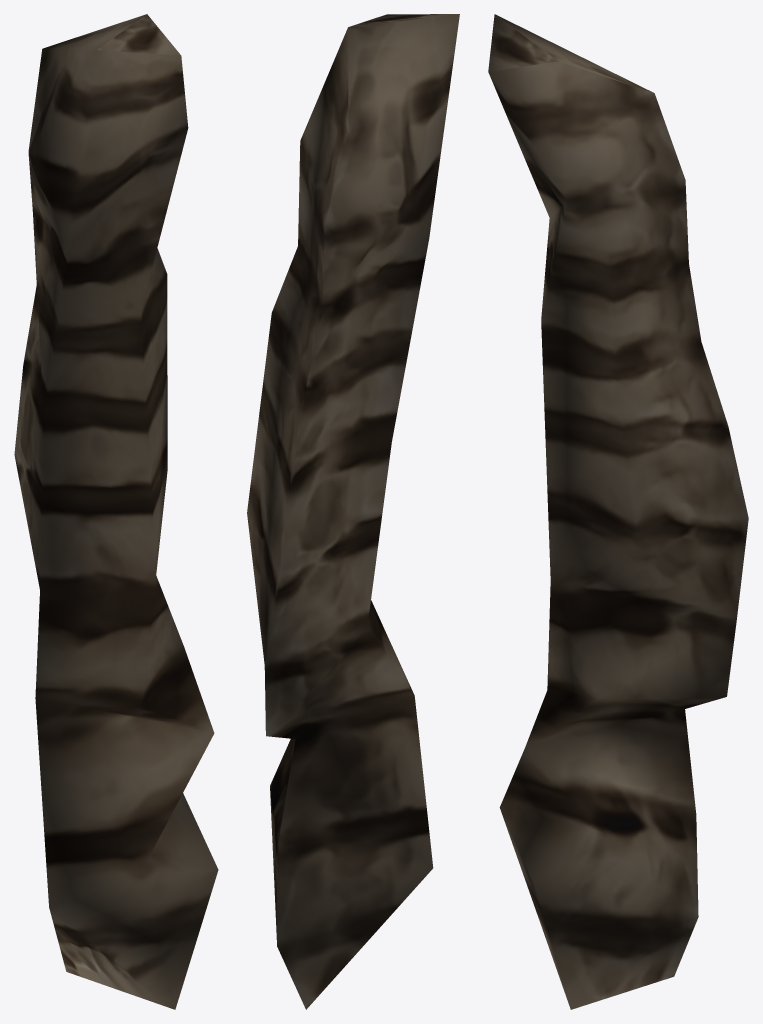
The model's file is TI_Skull_Part_03_LOD_01.fbx.
The picture shows the model from 3 angles, left to right: view 1: azimuth 30°, elevation 25°; view 2: azimuth 150°, elevation 25°; view 3: azimuth 270°, elevation 25°; orthographic projection. The views are drawn at different scales.
Visible parts, largest first — view 1: TI_Skull_Part_03_LOD_01; view 2: TI_Skull_Part_03_LOD_01; view 3: TI_Skull_Part_03_LOD_01.
Boxes of the visible parts, x1=… form: TI_Skull_Part_03_LOD_01: x1=14, y1=14, x2=218, y2=1009; TI_Skull_Part_03_LOD_01: x1=247, y1=14, x2=459, y2=1009; TI_Skull_Part_03_LOD_01: x1=488, y1=14, x2=748, y2=1009.
Bounding box in the file's own units: 0.1571 × 0.9636 × 0.2416.
